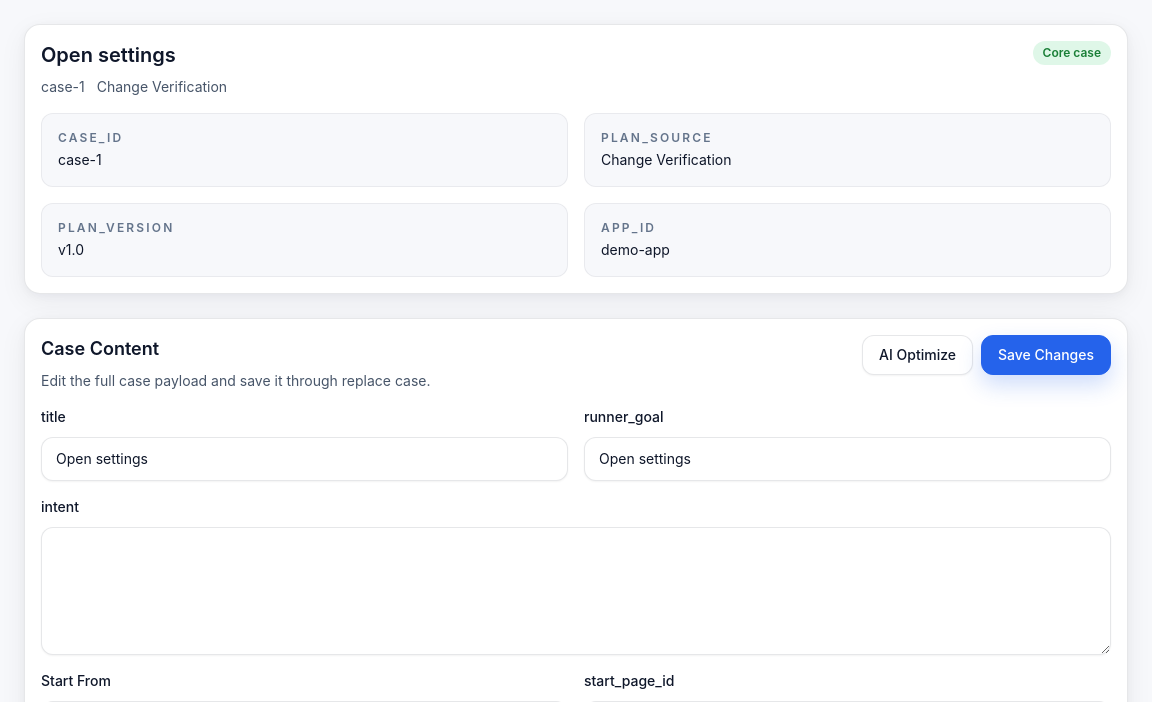
Scenario: CaseDetailPage › serializes empty numeric fields to null and validates required fields
Click the button "Save Changes".
click(1046, 355)  # box x1=981 y1=335 x2=1111 y2=375
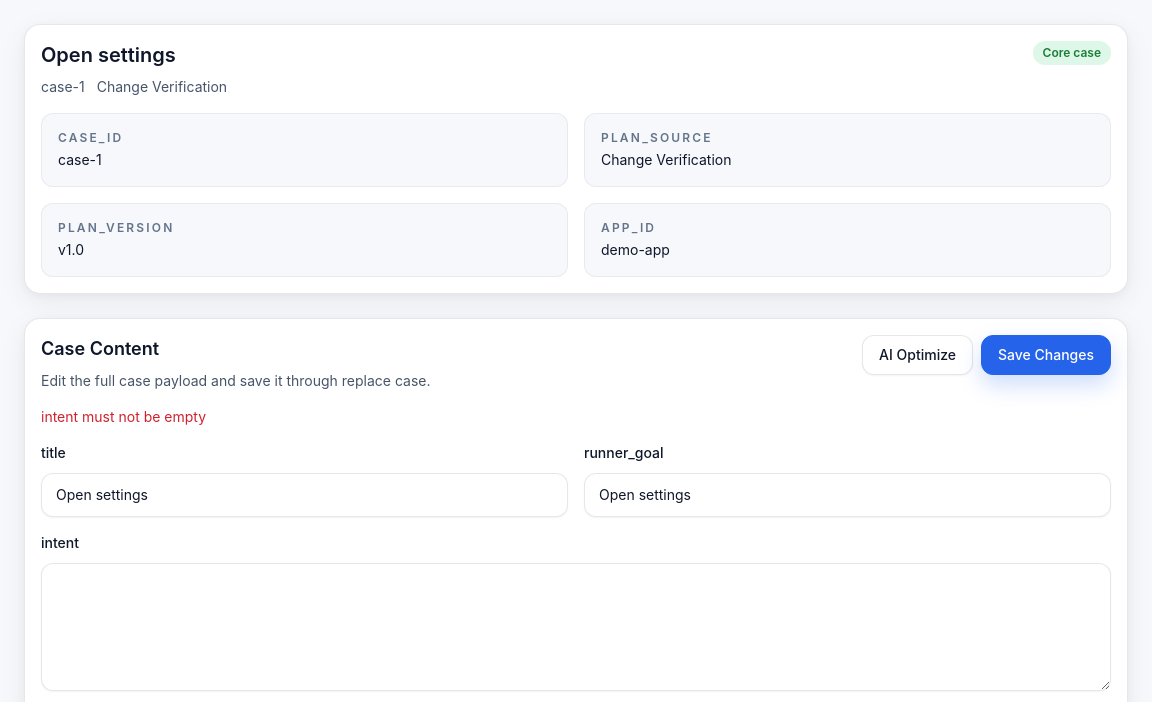
Result: the text "intent must not be empty" is shown at x1=41 y1=408 x2=206 y2=425
